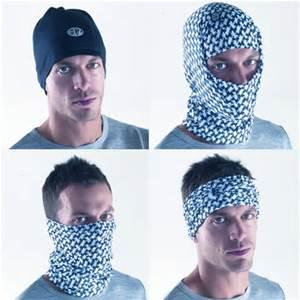NONE: (201, 209, 260, 272), (51, 59, 106, 119)
OK: (55, 203, 120, 270)
WRONG: (195, 51, 264, 120)
